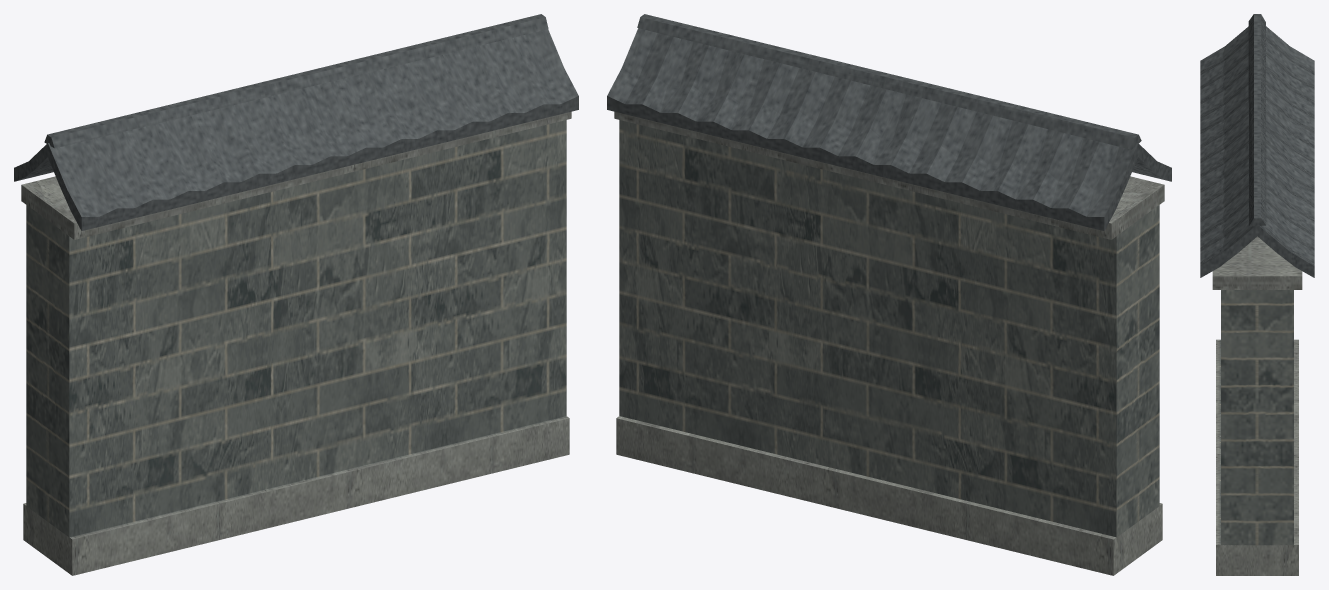
Rendered from WallStraight_LOD2.fbx.
The picture shows the model from 3 angles, left to right: view 1: azimuth 30°, elevation 25°; view 2: azimuth 150°, elevation 25°; view 3: azimuth 270°, elevation 25°; orthographic projection. The views are drawn at different scales.
Parts seen in each view (by area): view 1: WallStraight.001; view 2: WallStraight.001; view 3: WallStraight.001.
Boxes of the visible parts, x1,y1,x2,y2 form: WallStraight.001: (14, 14, 578, 575); WallStraight.001: (607, 14, 1171, 575); WallStraight.001: (1200, 14, 1314, 575).
Bounding box in the file's own units: 2 × 1.62 × 0.47.
Materials: 1 (1 with a texture image).
